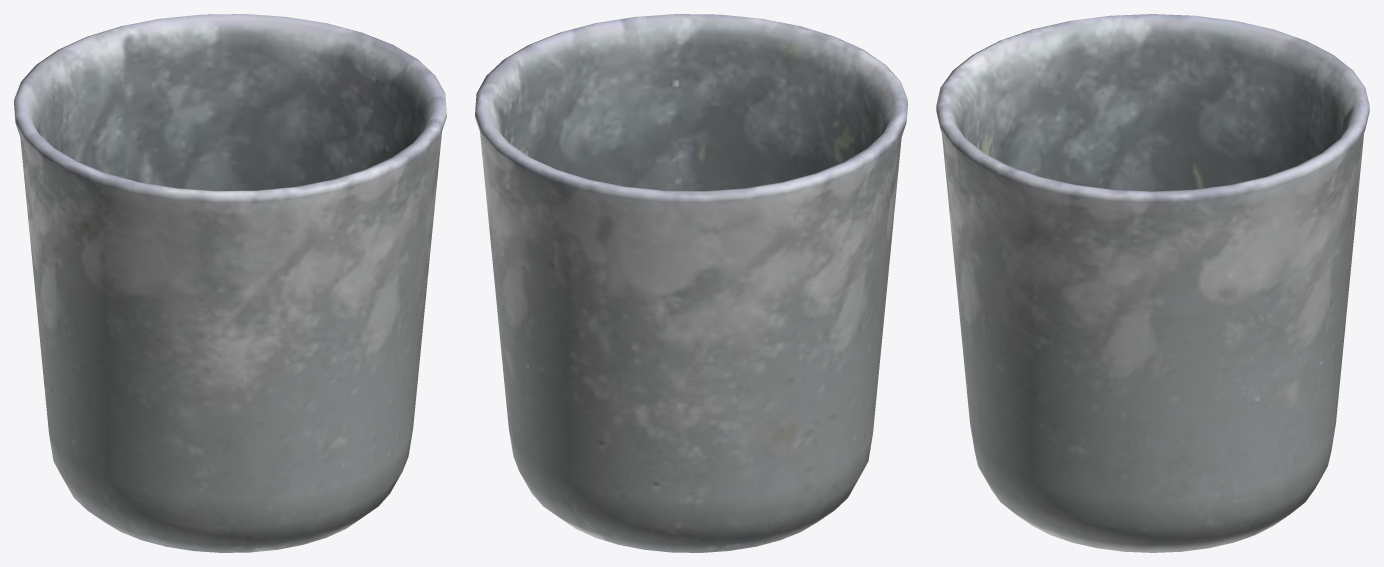
File: pencil_cup.glb
3 renders of one model, left to right at view 1: azimuth 30°, elevation 25°; view 2: azimuth 150°, elevation 25°; view 3: azimuth 270°, elevation 25°, orthographic.
Visible parts, largest first — view 1: stationery_supplies_pencilcup; view 2: stationery_supplies_pencilcup; view 3: stationery_supplies_pencilcup.
Boxes of the visible parts, bbox=[...] form: stationery_supplies_pencilcup: bbox=[14, 14, 446, 552]; stationery_supplies_pencilcup: bbox=[475, 14, 907, 552]; stationery_supplies_pencilcup: bbox=[936, 14, 1369, 552].
Size of the model in its own units: 0.0837 by 0.0839 by 0.0837.
1 material, 1 textured.
